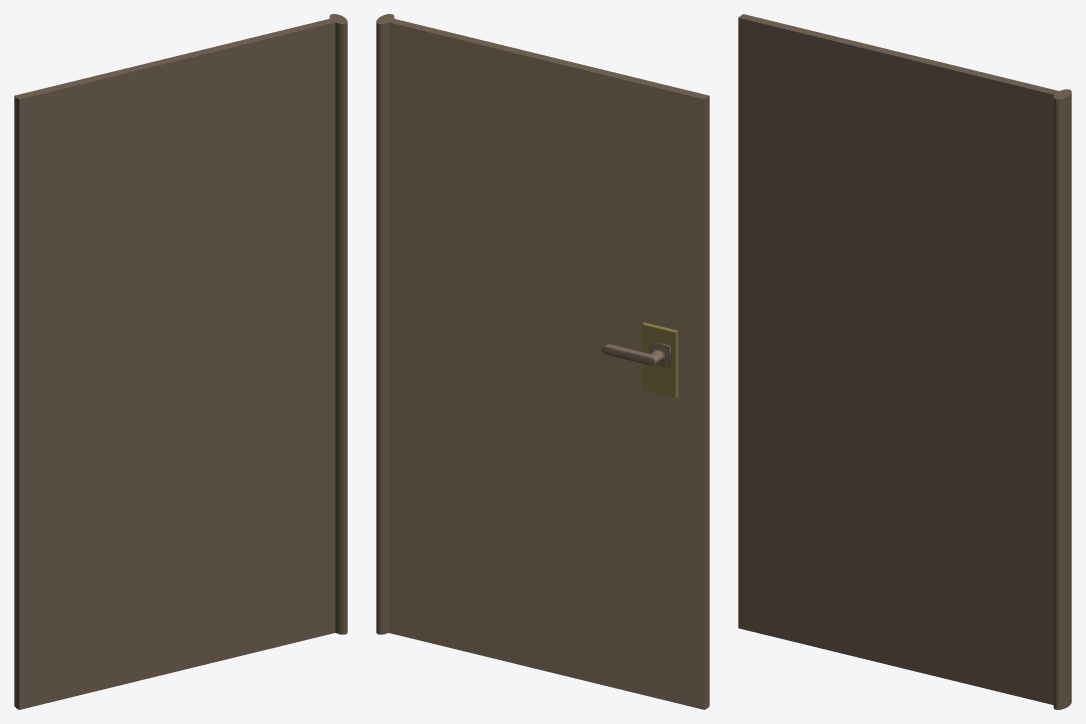
The picture shows the model from 3 angles, left to right: view 1: azimuth 30°, elevation 25°; view 2: azimuth 150°, elevation 25°; view 3: azimuth 330°, elevation 25°; orthographic projection.
Parts seen in each view (by area): view 1: 柱体.009; view 2: 柱体.009, 立方体.092, 立方体.093; view 3: 柱体.009.
Part boxes in pixels (<box>): 柱体.009: <box>14,14,347,709</box>; 柱体.009: <box>376,14,709,709</box>; 立方体.092: <box>642,322,678,398</box>; 立方体.093: <box>602,340,671,367</box>; 柱体.009: <box>738,14,1071,709</box>.
Bounding box in the file's own units: 390 × 693 × 47.07.
